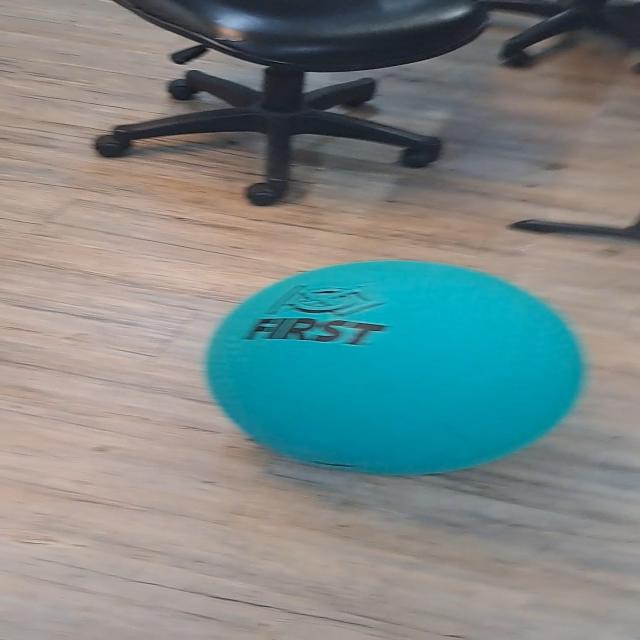ALGAE: (202, 257, 586, 477)
